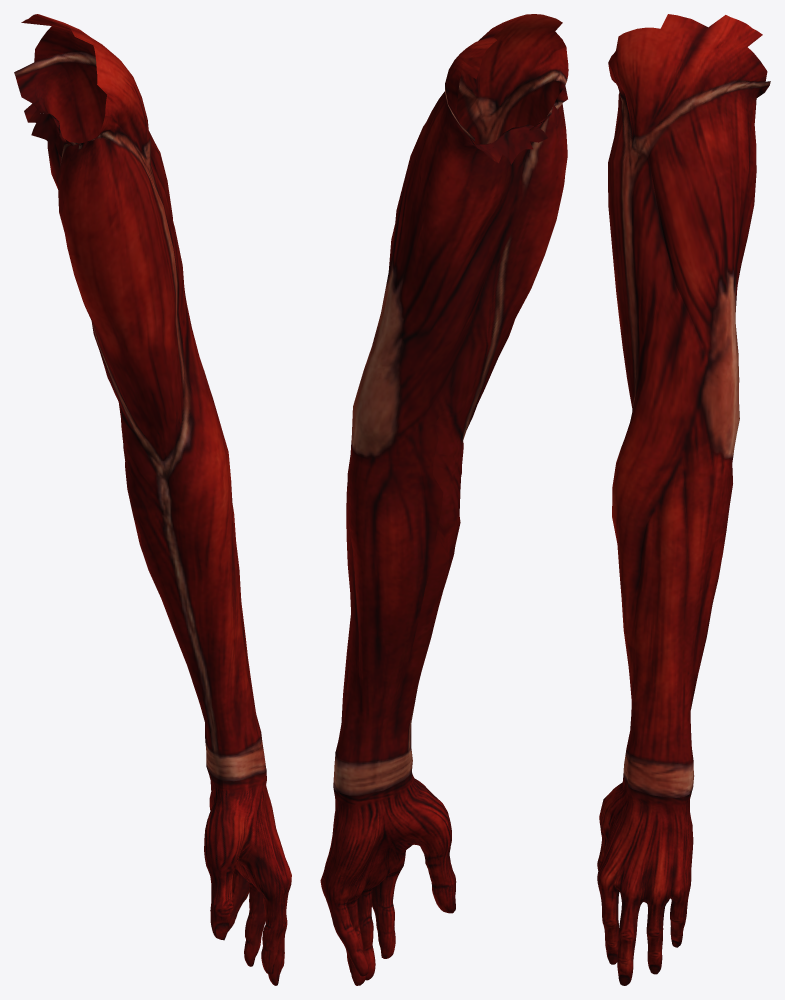
Rendered from colossal-titan-right-arm.glb.
The picture shows the model from 3 angles, left to right: view 1: azimuth 30°, elevation 25°; view 2: azimuth 150°, elevation 25°; view 3: azimuth 270°, elevation 25°; orthographic projection. The views are drawn at different scales.
Visible parts, largest first — view 1: colossal-titan-right-arm-01, colossal-titan-right-arm-00; view 2: colossal-titan-right-arm-01, colossal-titan-right-arm-00; view 3: colossal-titan-right-arm-01, colossal-titan-right-arm-00.
Boxes of the visible parts, x1=… form: colossal-titan-right-arm-01: x1=14, y1=14, x2=266, y2=781; colossal-titan-right-arm-00: x1=204, y1=767, x2=291, y2=985; colossal-titan-right-arm-01: x1=333, y1=14, x2=568, y2=795; colossal-titan-right-arm-00: x1=320, y1=772, x2=456, y2=985; colossal-titan-right-arm-01: x1=608, y1=14, x2=770, y2=797; colossal-titan-right-arm-00: x1=597, y1=774, x2=693, y2=985.
Bounding box in the file's own units: 1.24 × 5.36 × 0.9451.
Materials: 2 (2 with a texture image).
